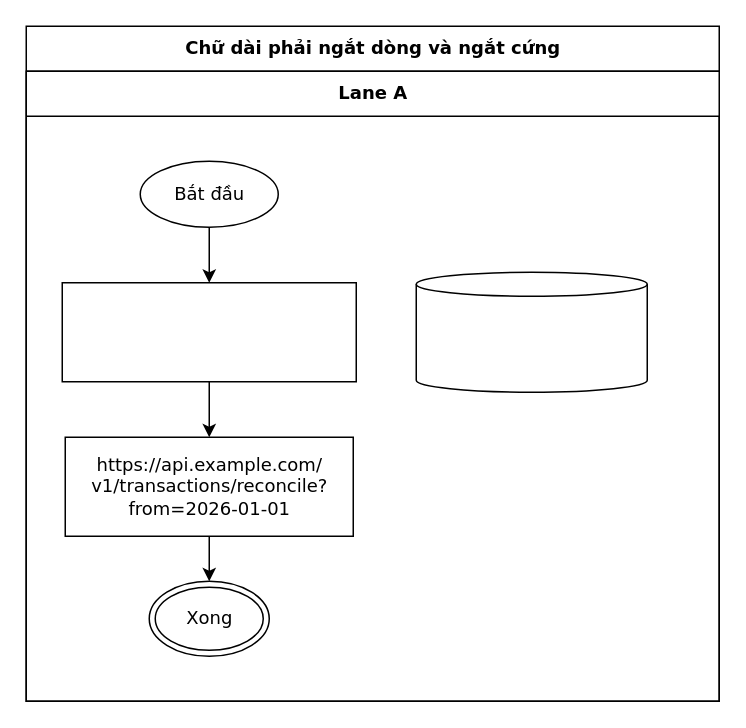
Some shapes in this 746 by 728 pixel diagram are drawn without their labels. The centre of each missing label's shape, as x and y in pixels:
"DBTHANHTOANDOIS OATGIAODICHNGOAI TE" goes at point 531,331.
"Đối soát giao dịch với cổng thanh toán rồi ghi nhận kết quả vào sổ cái nội bộ" goes at point 208,331.
